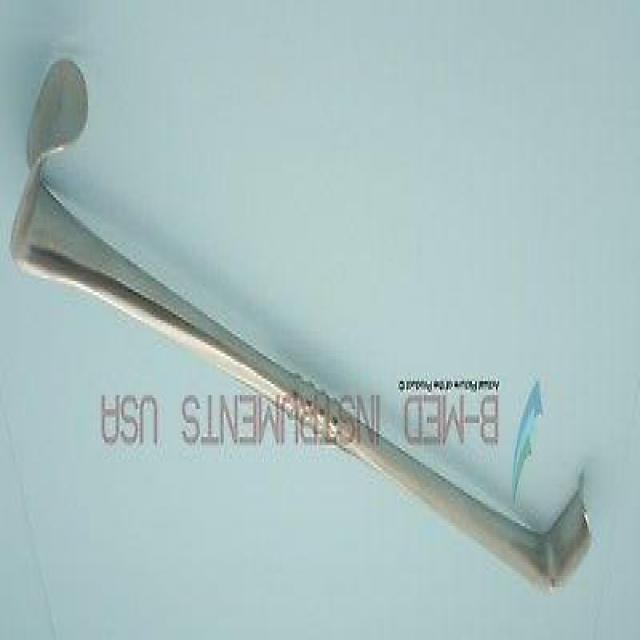Richardson: (6, 50, 598, 607)
